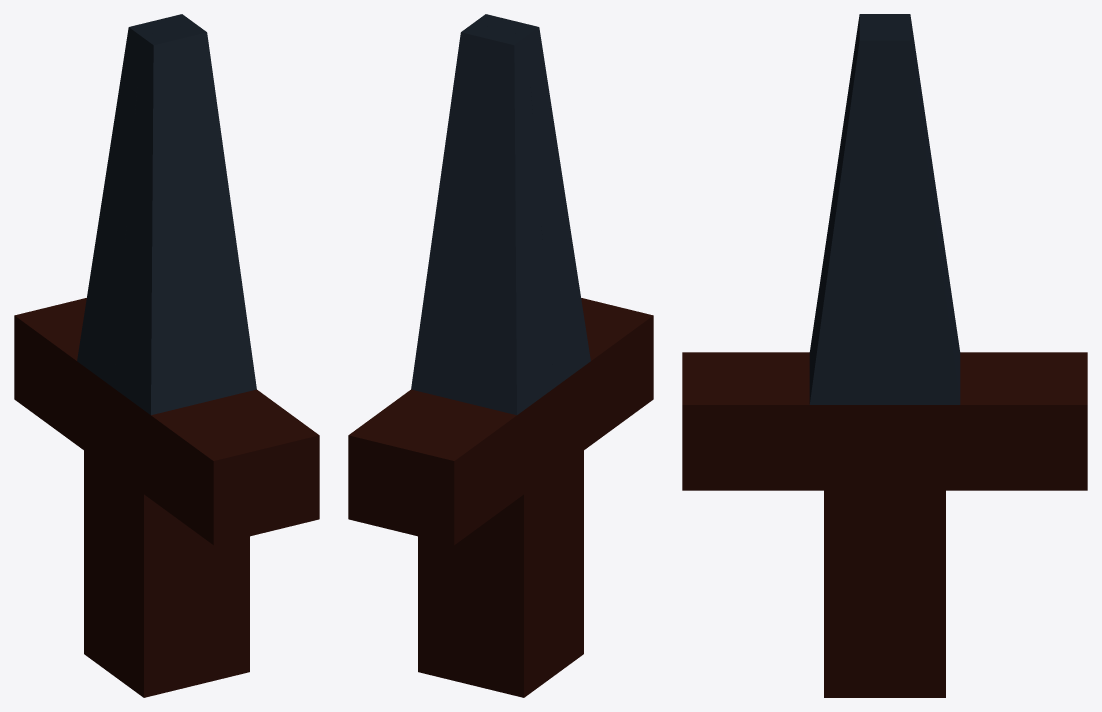
Rendered from sword.obj.
3 renders of one model, left to right at view 1: azimuth 30°, elevation 25°; view 2: azimuth 150°, elevation 25°; view 3: azimuth 270°, elevation 25°, orthographic.
Parts seen in each view (by area): view 1: Cube; view 2: Cube; view 3: Cube.
Boxes of the visible parts, x1=… form: Cube: x1=14, y1=14, x2=319, y2=697; Cube: x1=348, y1=14, x2=653, y2=697; Cube: x1=682, y1=14, x2=1087, y2=697.
Bounding box in the file's own units: 1.08 × 6.18 × 3.52.
